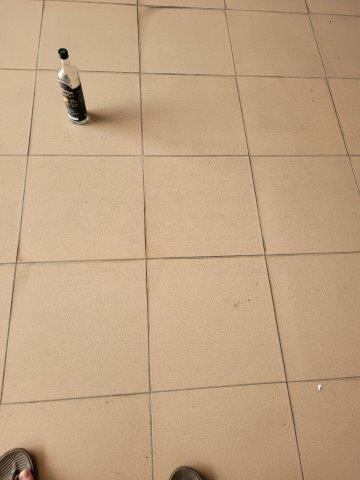botolkaca: (55, 48, 90, 125)
